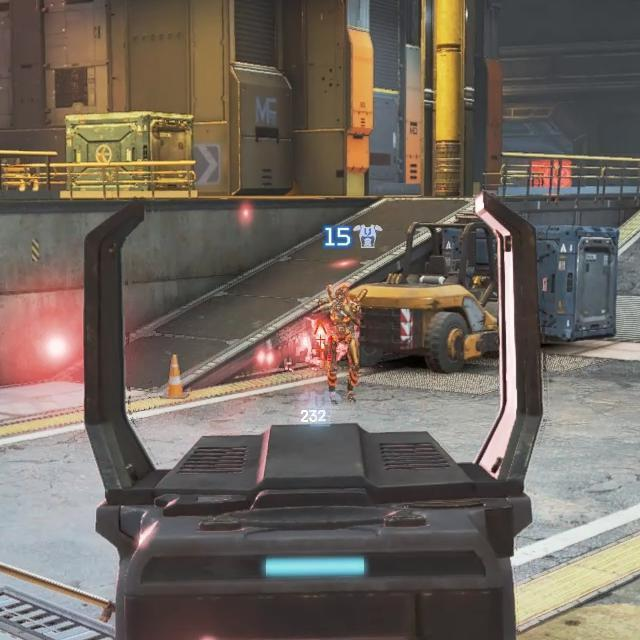avatar: (322, 283, 364, 404)
